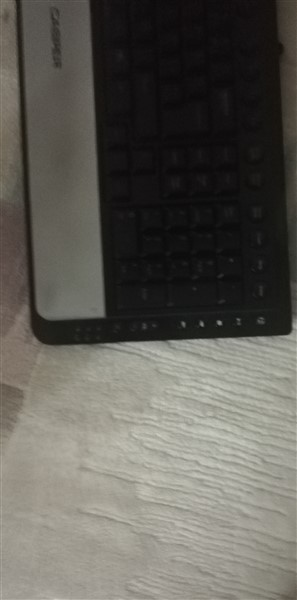klavye: (13, 1, 292, 344)
